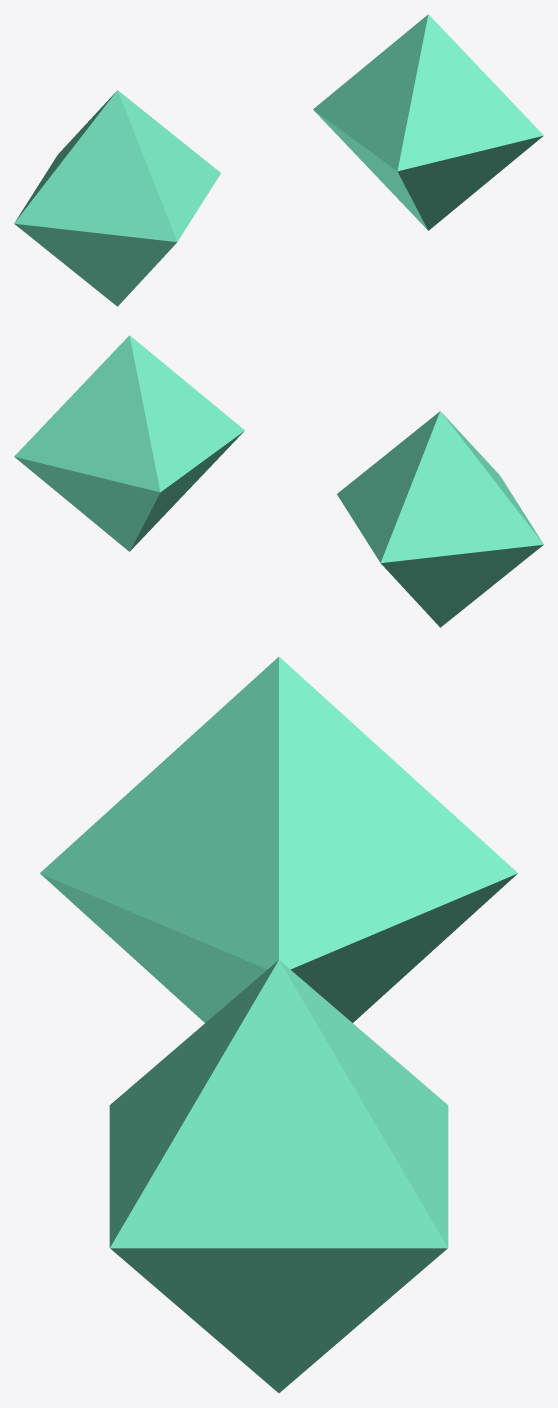
Rendered from gem.gltf.
3 renders of one model, top to bottom at view 1: azimuth 30°, elevation 25°; view 2: azimuth 150°, elevation 25°; view 3: azimuth 270°, elevation 25°, orthographic. The views are drawn at different scales.
Visible parts, largest first — view 1: gemB, gemA; view 2: gemB, gemA; view 3: gemB, gemA.
Boxes of the visible parts, x1=… form: gemB: x1=313, y1=14, x2=543, y2=230; gemA: x1=14, y1=90, x2=220, y2=306; gemB: x1=14, y1=335, x2=244, y2=551; gemA: x1=337, y1=411, x2=543, y2=627; gemB: x1=109, y1=960, x2=448, y2=1392; gemA: x1=40, y1=657, x2=517, y2=1022.
Bounding box in the file's own units: 1.88 × 0.8 × 0.8.
